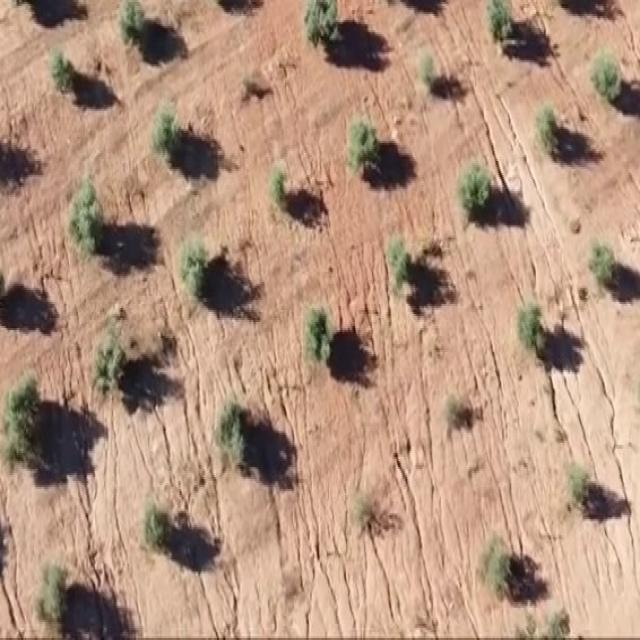trees: (162, 215, 236, 320), (13, 541, 91, 640), (208, 376, 272, 496), (125, 466, 190, 573), (80, 308, 135, 420), (340, 101, 398, 196), (1, 369, 48, 483), (578, 217, 633, 305), (507, 282, 558, 371), (474, 521, 524, 610), (448, 153, 498, 241), (60, 175, 106, 268), (140, 101, 188, 188), (292, 287, 342, 368), (293, 0, 354, 66), (520, 85, 568, 163), (379, 230, 427, 306), (555, 451, 597, 536), (40, 36, 90, 106), (587, 43, 624, 125), (479, 0, 523, 66), (264, 140, 297, 216), (436, 381, 472, 441), (112, 0, 150, 54), (417, 36, 446, 96)
